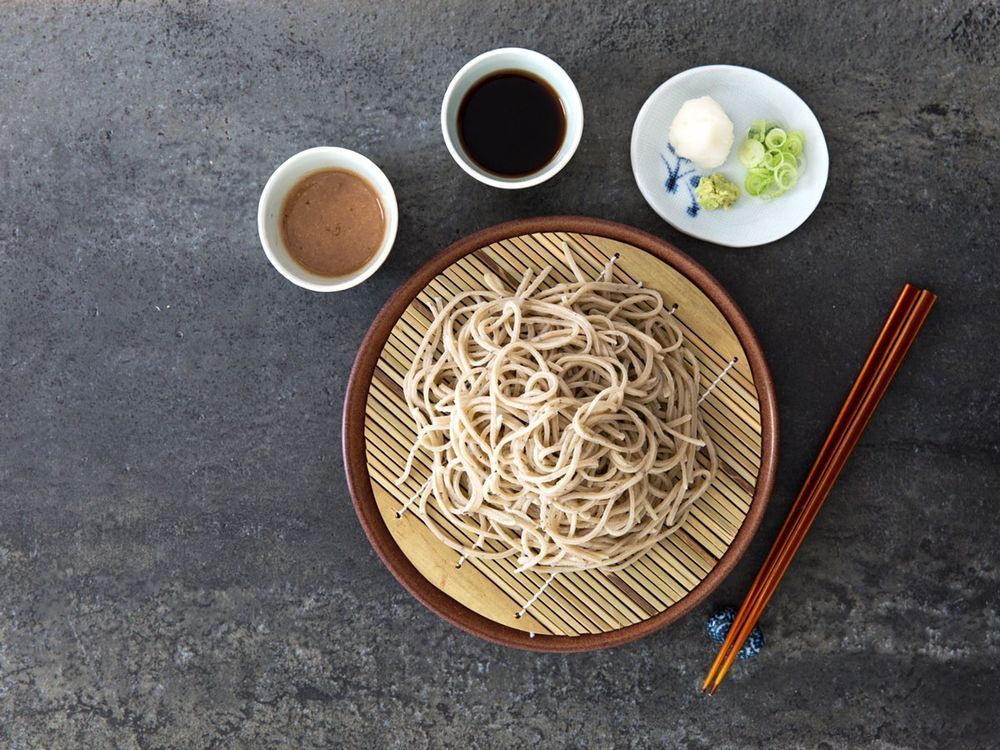Soba: (403, 270, 743, 582)
